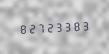eight: (17, 21, 25, 35), (71, 19, 79, 32)
seven: (35, 21, 43, 34)
three: (62, 19, 70, 33), (80, 18, 88, 32), (53, 20, 61, 33)
two: (26, 21, 34, 35), (44, 20, 52, 34)
